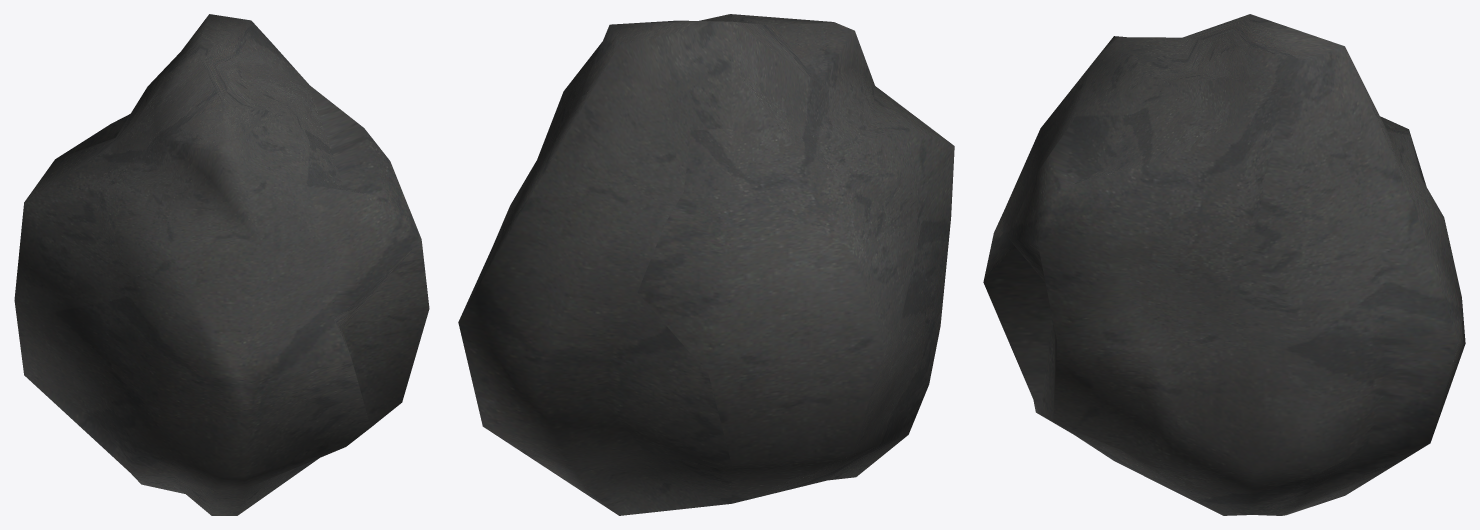
The model's file is misc_rock_large_2.dae.
3 views of the same model, side by side, from view 1: azimuth 30°, elevation 25°; view 2: azimuth 150°, elevation 25°; view 3: azimuth 270°, elevation 25° (orthographic). The views are drawn at different scales.
Visible parts, largest first — view 1: rock_large2; view 2: rock_large2; view 3: rock_large2.
Part boxes in pixels (x1,y1,x2,y2): rock_large2: (14, 14, 429, 515); rock_large2: (458, 14, 954, 515); rock_large2: (983, 14, 1465, 515).
Size of what is drawn, in the model's own units: 1.68 by 1.89 by 1.81.
